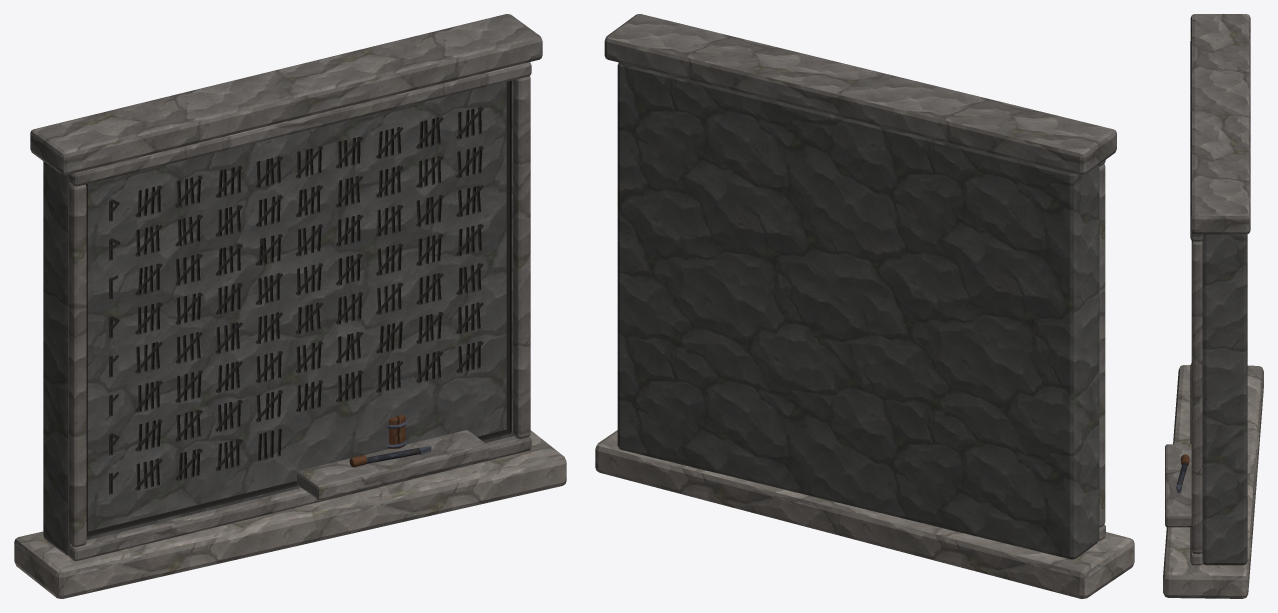
File: vo_tally_wall.glb
3 renders of one model, left to right at view 1: azimuth 30°, elevation 25°; view 2: azimuth 150°, elevation 25°; view 3: azimuth 270°, elevation 25°, orthographic. The views are drawn at different scales.
Parts seen in each view (by area): view 1: model; view 2: model; view 3: model.
Part boxes in pixels (<box>): model: <box>14,14,566,598</box>; model: <box>595,14,1134,598</box>; model: <box>1163,14,1263,598</box>.
Size of the model in its own units: 1.76 by 1.47 by 0.353.
Materials: 7 (6 with a texture image).
